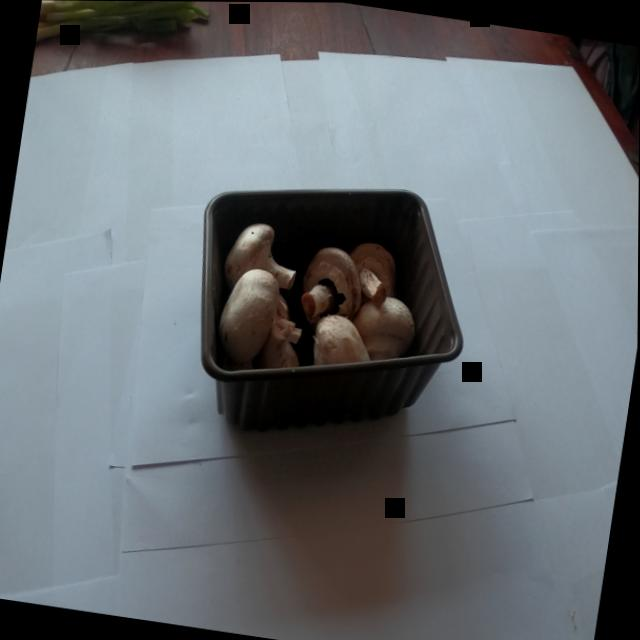Buttonmushroom: (146, 130, 502, 477)
